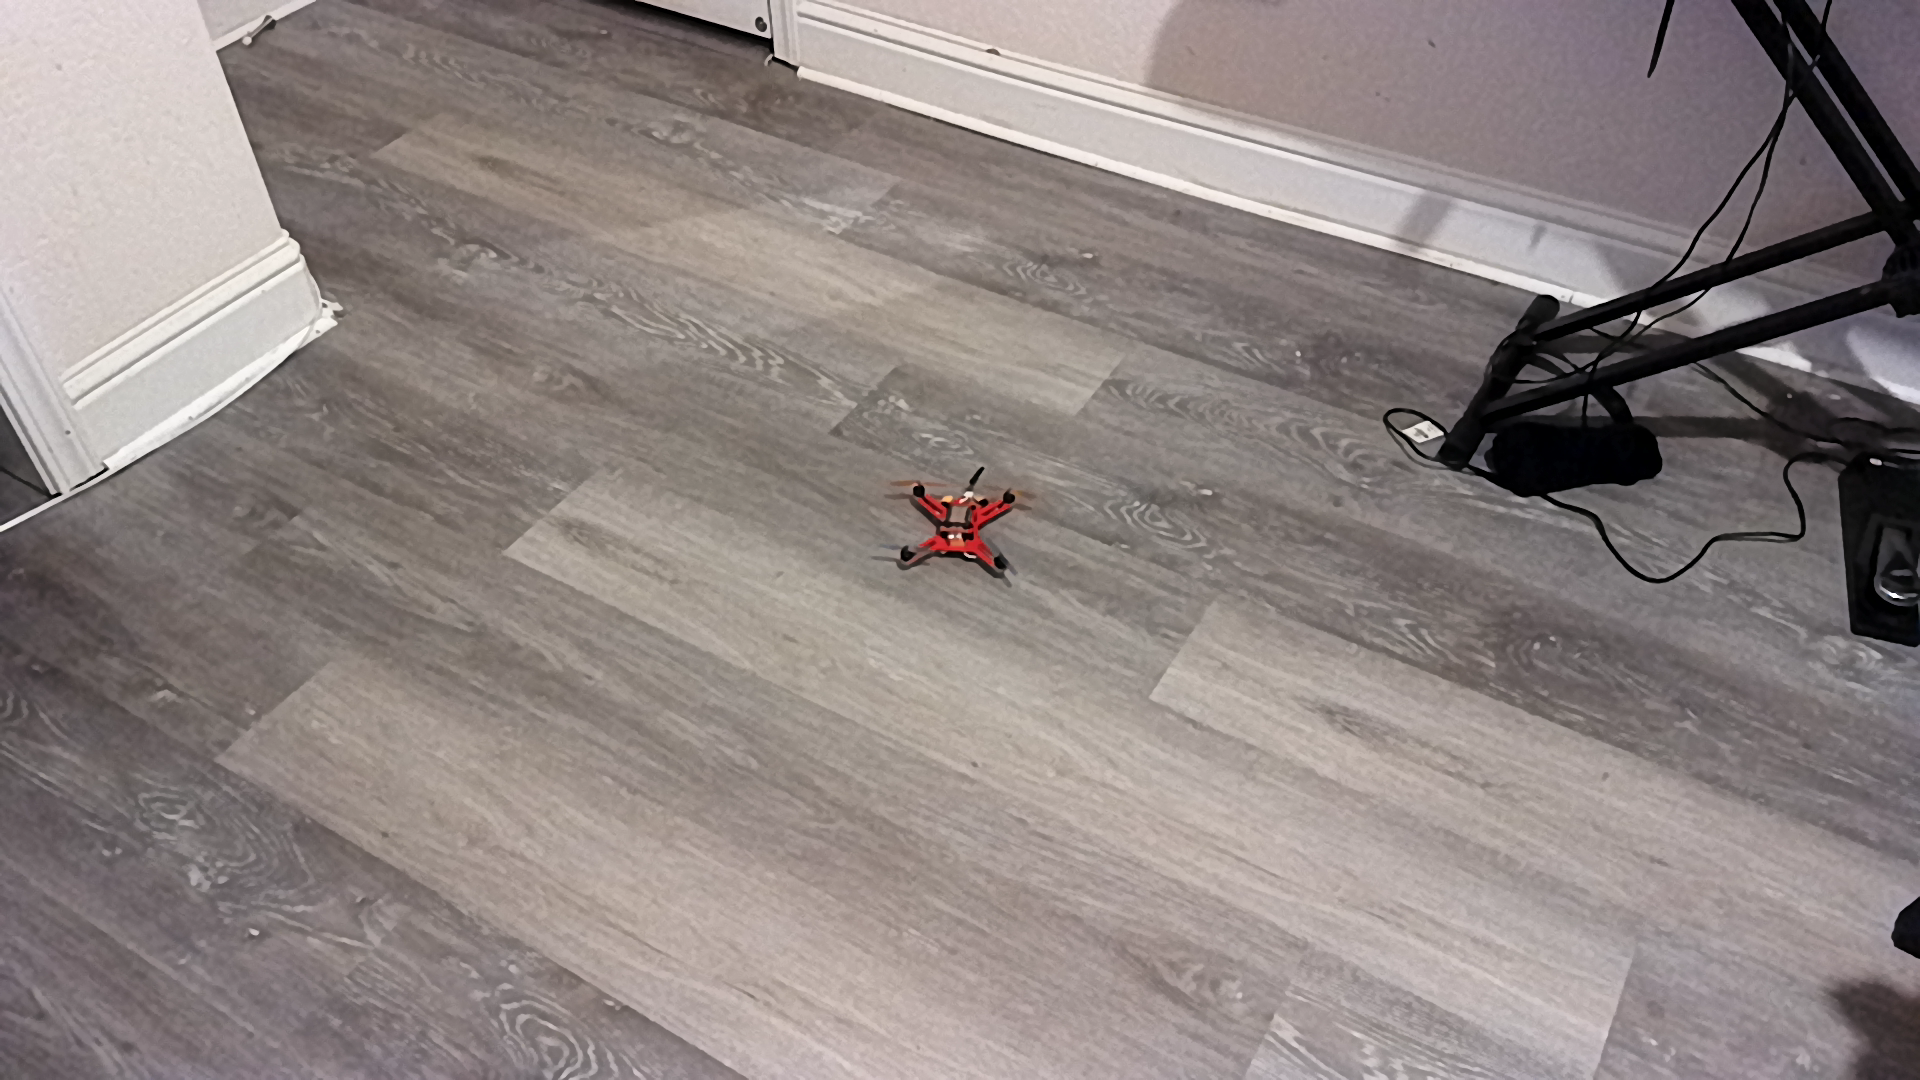drone: (880, 463, 1054, 597)
